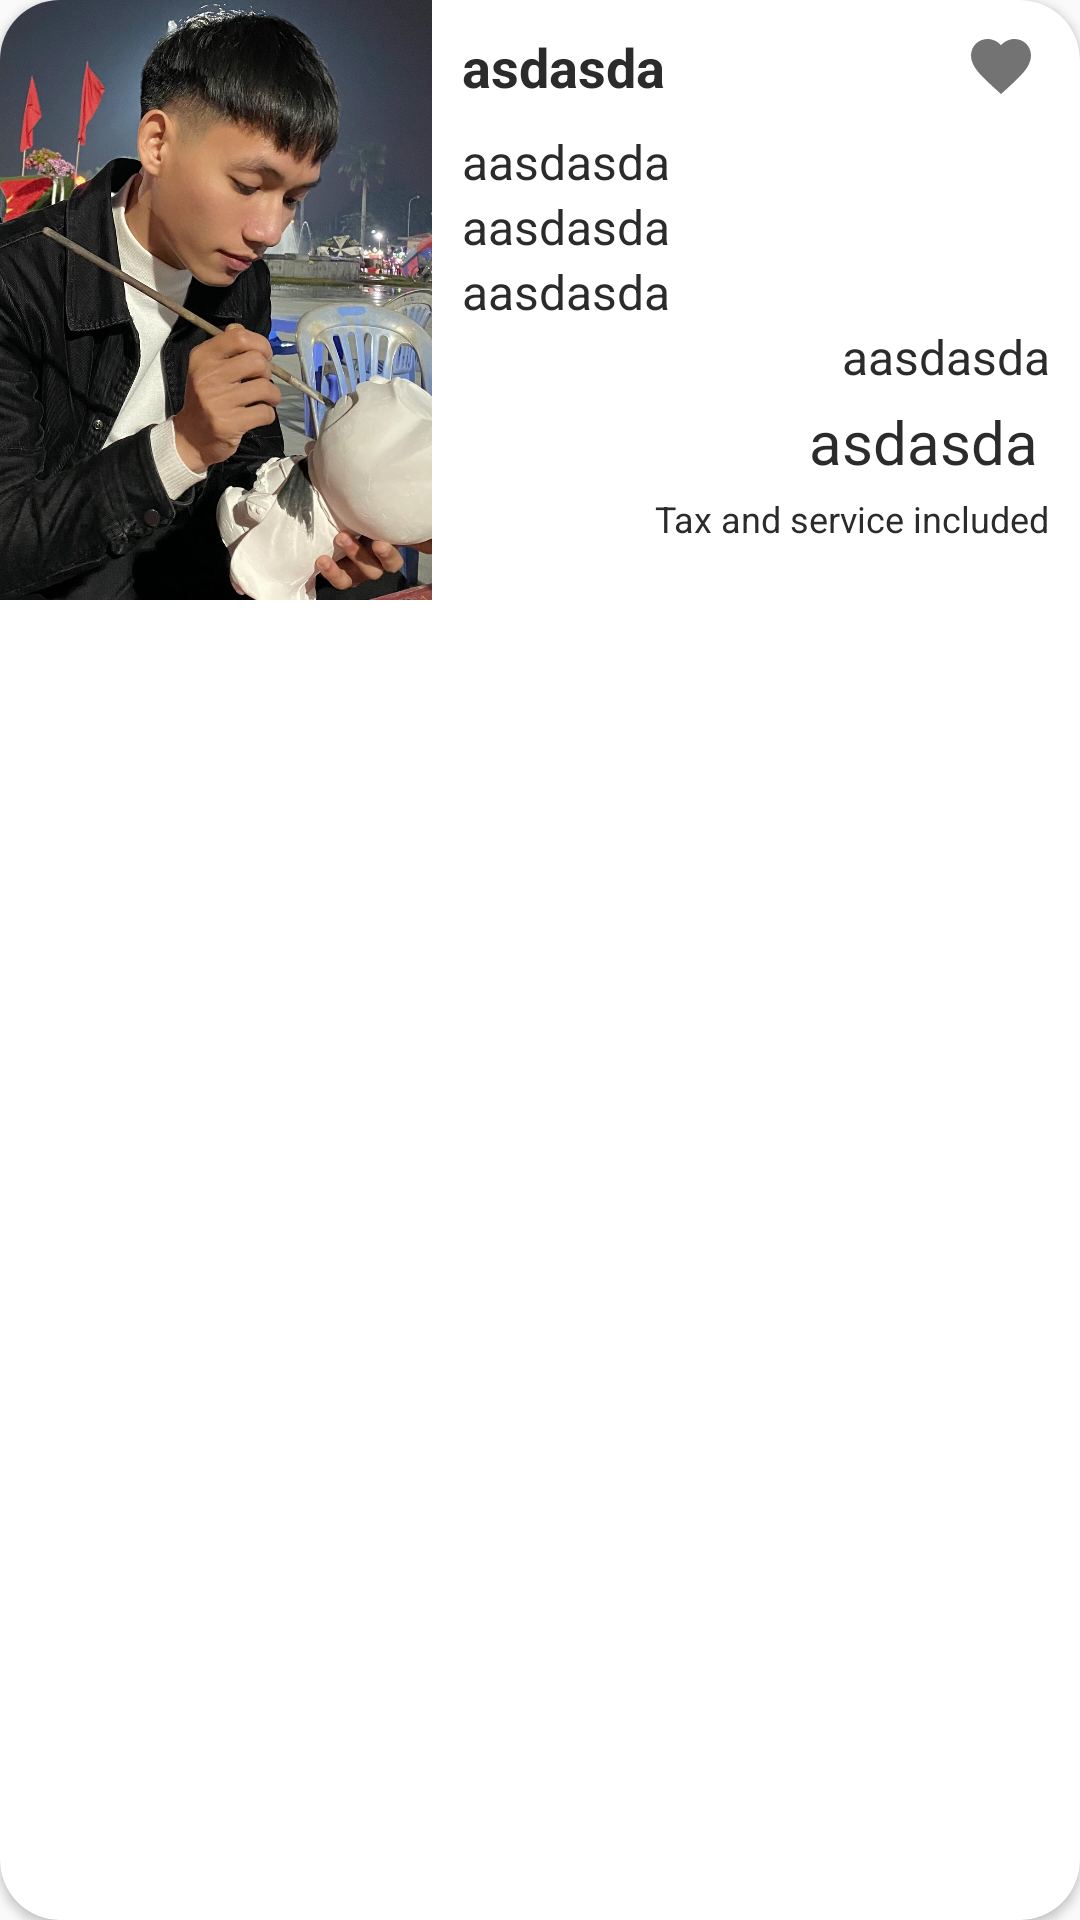

Icon click points for this 1080x1920 phone screenshot, format (x=x, y=y):
favorite: (x=1001, y=66)
